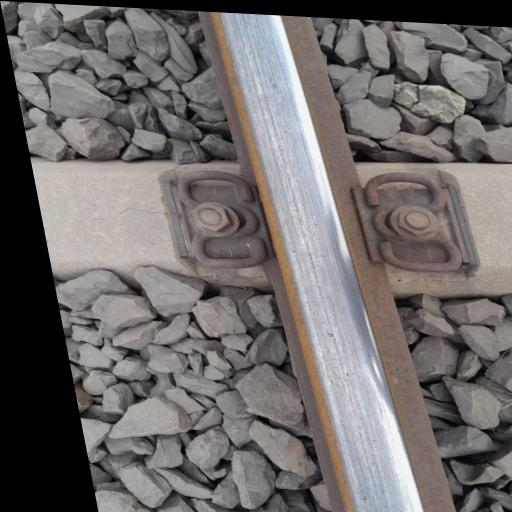bolt: (380, 194, 448, 247), (182, 197, 245, 242)
clip: (341, 162, 474, 298), (165, 164, 280, 300)
rail: (192, 10, 404, 407)
